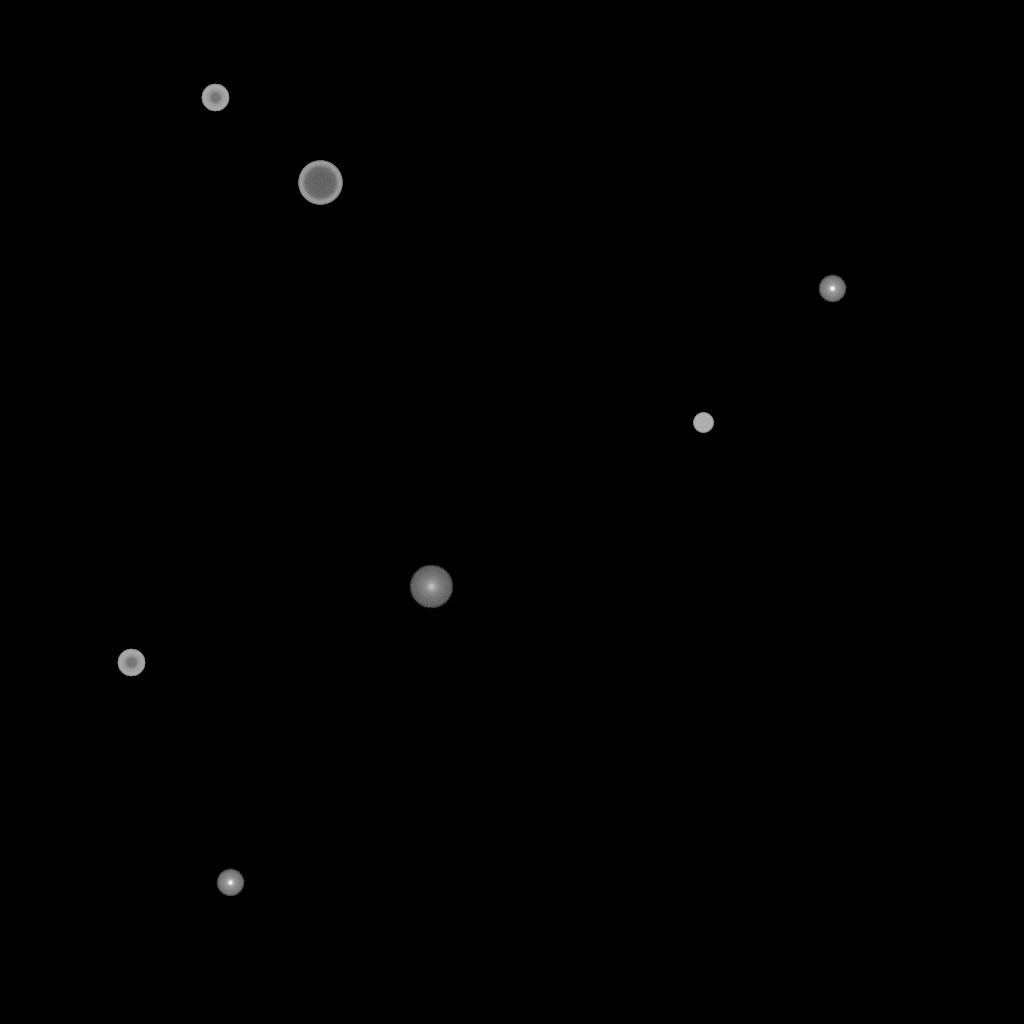depth:-10: (818, 275, 846, 303), (216, 869, 244, 897)
depth:-40: (693, 413, 713, 433)
depth:-50: (117, 649, 145, 677), (201, 84, 229, 112)
depth:-70: (298, 161, 342, 205)
depth:10: (409, 565, 453, 609)
